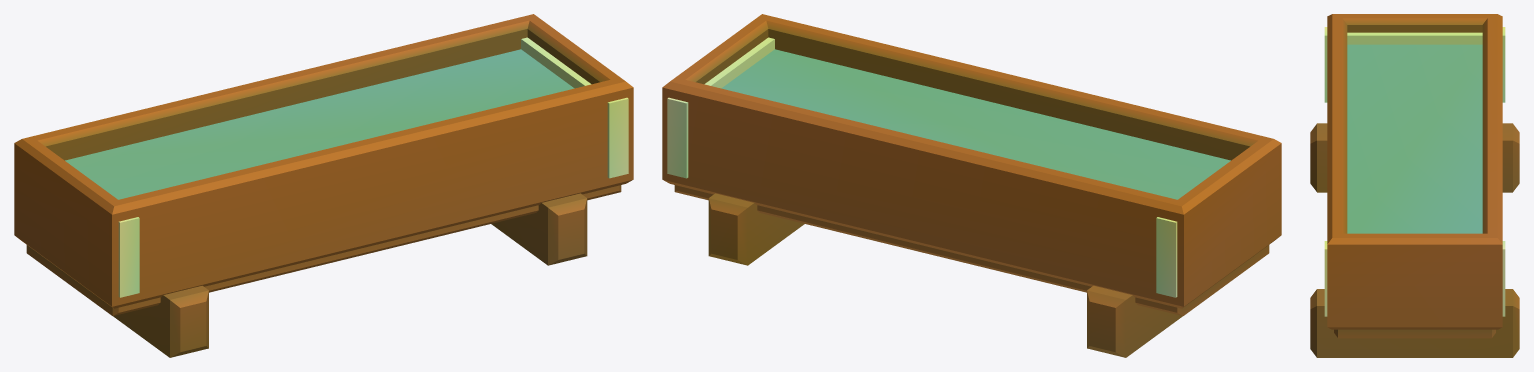
The model's file is Farm_Trough.fbx.
The picture shows the model from 3 angles, left to right: view 1: azimuth 30°, elevation 25°; view 2: azimuth 150°, elevation 25°; view 3: azimuth 270°, elevation 25°; orthographic projection. The views are drawn at different scales.
Parts seen in each view (by area): view 1: Farm_Trough; view 2: Farm_Trough; view 3: Farm_Trough.
Boxes of the visible parts, <box> form: Farm_Trough: <box>14,14,633,357</box>; Farm_Trough: <box>662,14,1281,357</box>; Farm_Trough: <box>1310,14,1519,357</box>.
Bounding box in the file's own units: 1.6 × 0.46 × 0.62.
